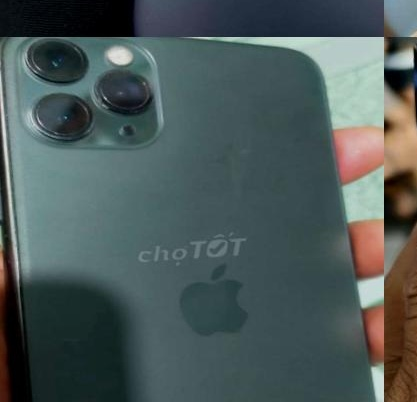scratch: (0, 217, 34, 290), (106, 98, 154, 123), (0, 39, 19, 70), (135, 70, 159, 92), (27, 88, 43, 114), (411, 37, 417, 52)
